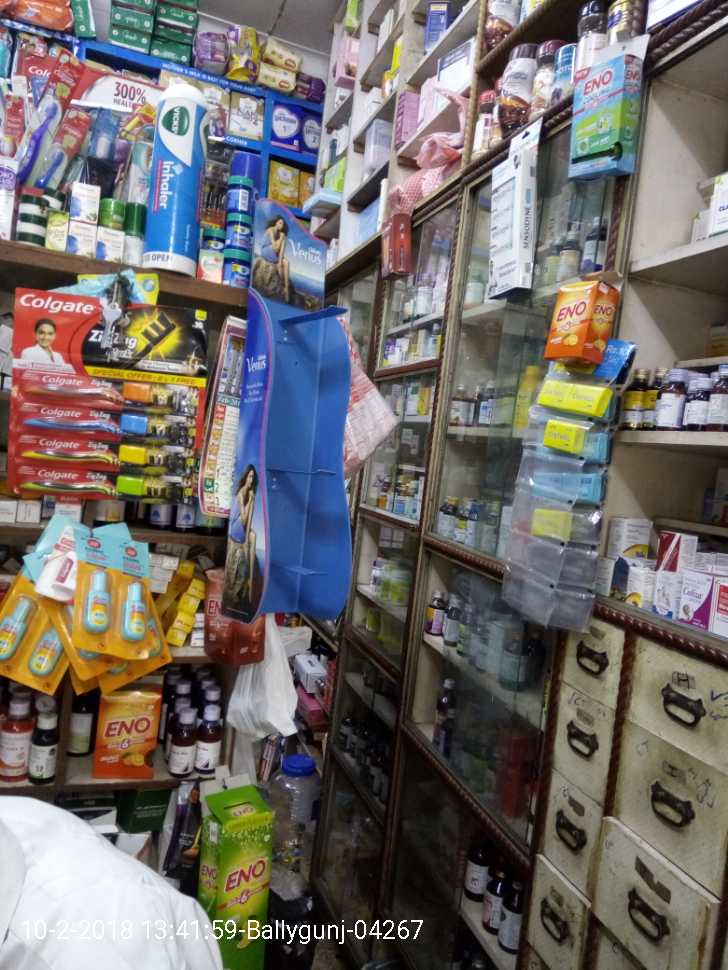vicks: (135, 90, 195, 271), (220, 166, 251, 218), (220, 247, 251, 285), (227, 215, 251, 250)
